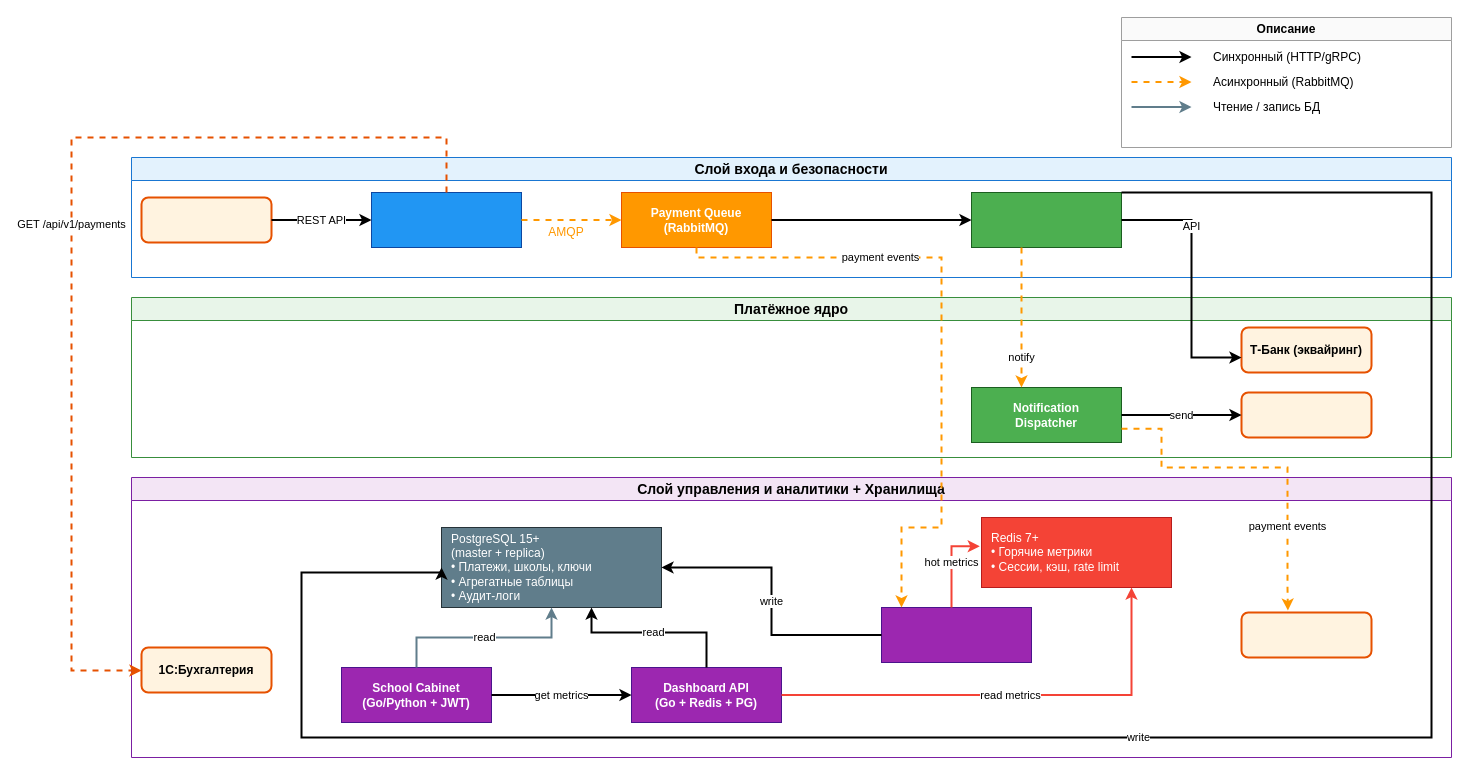
Some shapes in this 1469 by 775 pixel diagram are drawn without their labels. The shapes that lost their labels are listed below. From the top down, each one's centre as x and y in pixels, then its label:
point (206, 219): WordPress / Tilda
point (446, 220): API Gateway (Go + Redis)
point (1046, 220): Payment Core (Go + PostgreSQL)
point (1306, 414): ВК / СМС
point (956, 634): Analytics Engine (Go + Python)
point (1306, 634): Битрикс24
